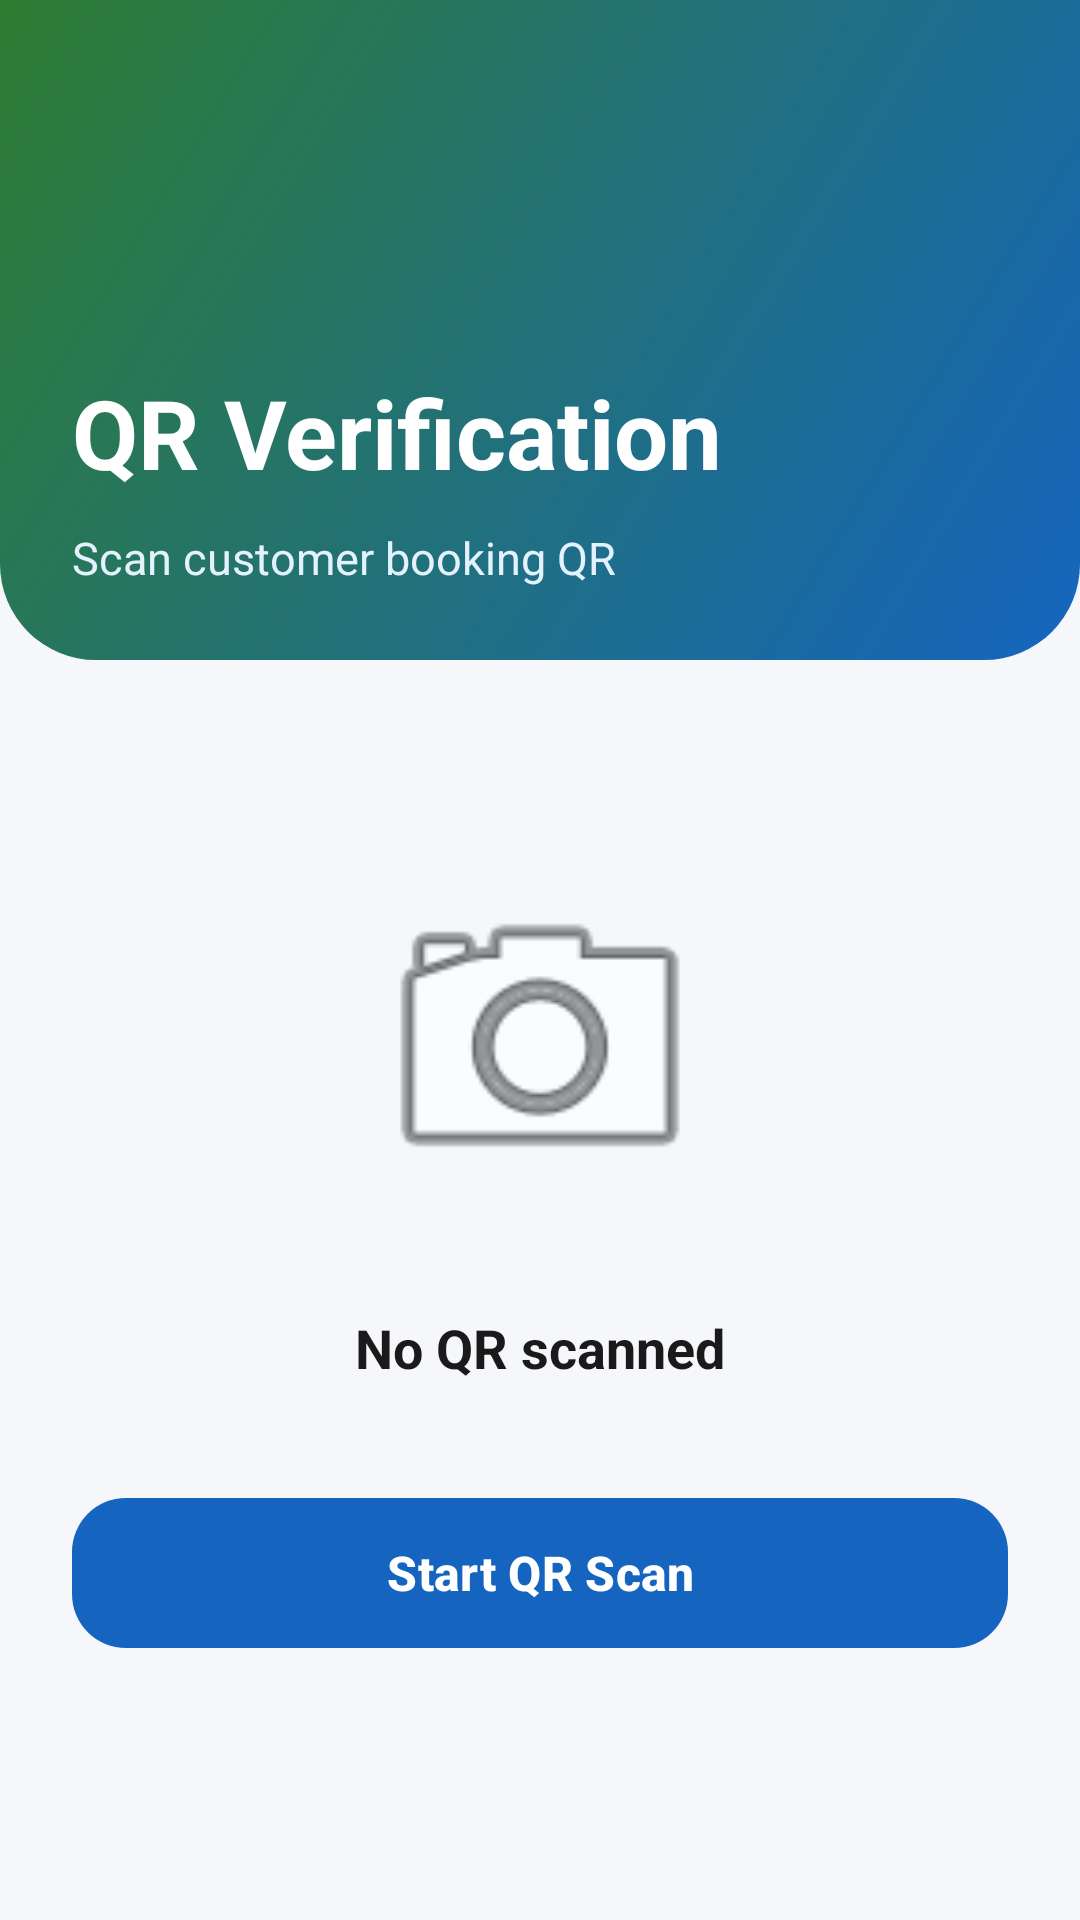

Icons on this 1080 x 1920 Android screen, each with its box as (left=x1, top=y1, right=x2, bottom=y2):
camera: (left=401, top=924, right=679, bottom=1146)
